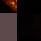lifeC: (0, 0, 17, 13)
